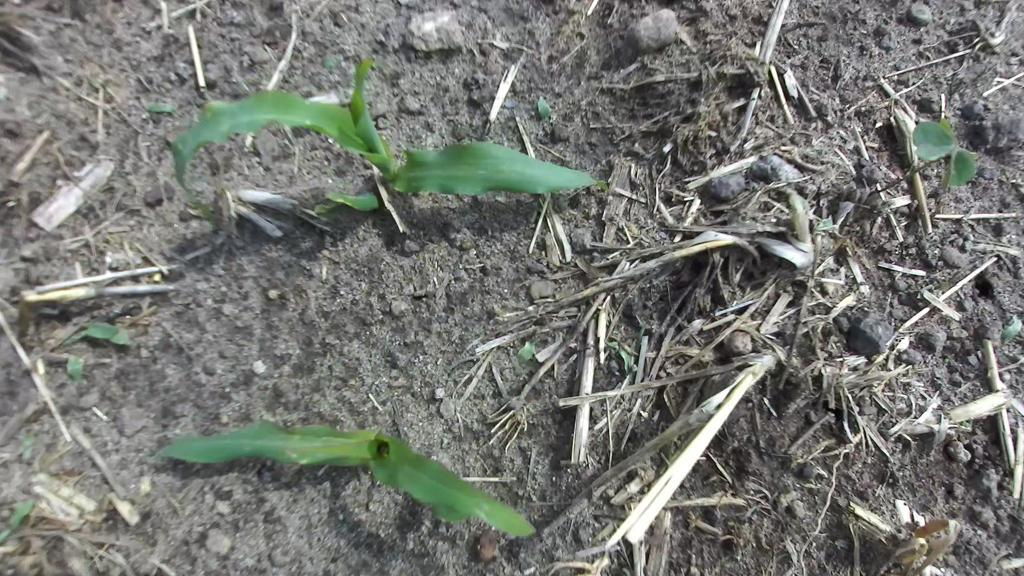BroWeed: (898, 107, 989, 198), (0, 494, 37, 546), (598, 333, 638, 374), (62, 323, 128, 345), (511, 331, 545, 369), (530, 94, 556, 123), (319, 50, 350, 72), (145, 98, 180, 117), (64, 353, 84, 382), (629, 322, 646, 353), (814, 213, 836, 233), (21, 434, 34, 464)
Maize: (164, 33, 608, 236), (149, 386, 549, 541)
